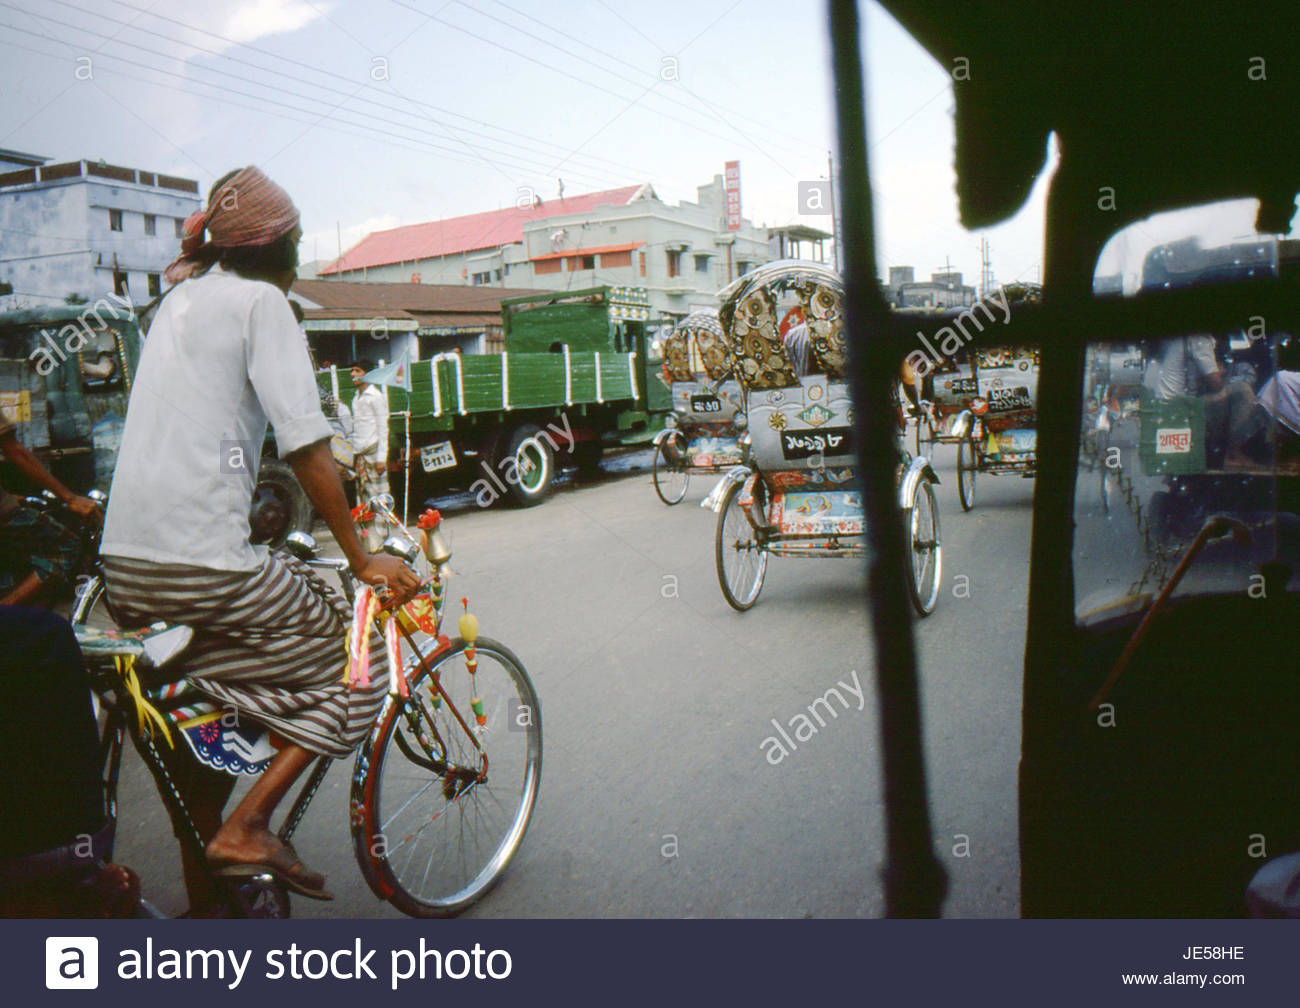Rickshaw: (15, 430, 533, 909), (709, 259, 972, 628), (956, 267, 1068, 491), (648, 301, 747, 500)
